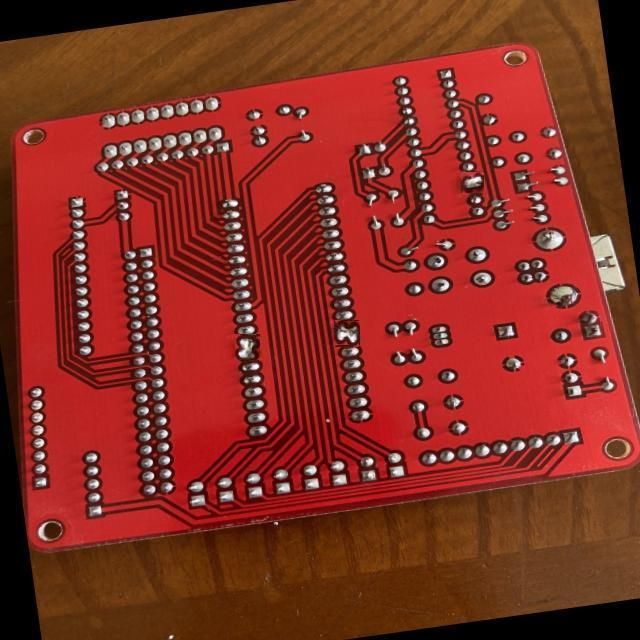damged: (236, 334, 262, 360), (334, 321, 360, 346), (461, 172, 484, 194)
